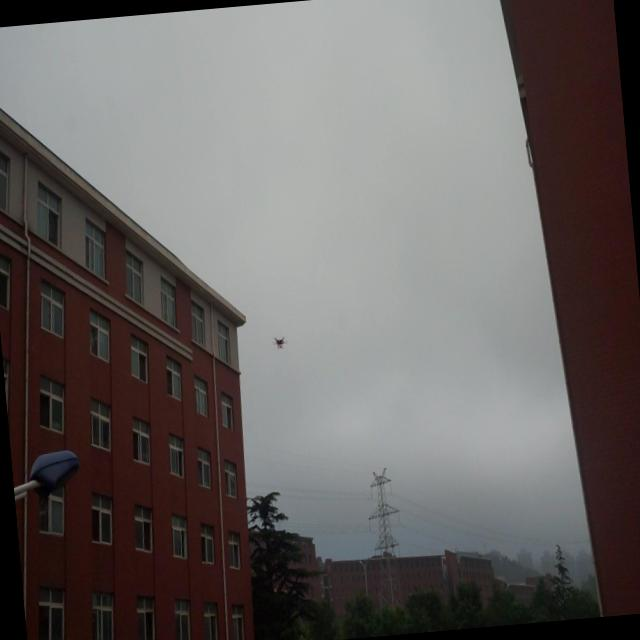drone: (270, 331, 287, 352)
